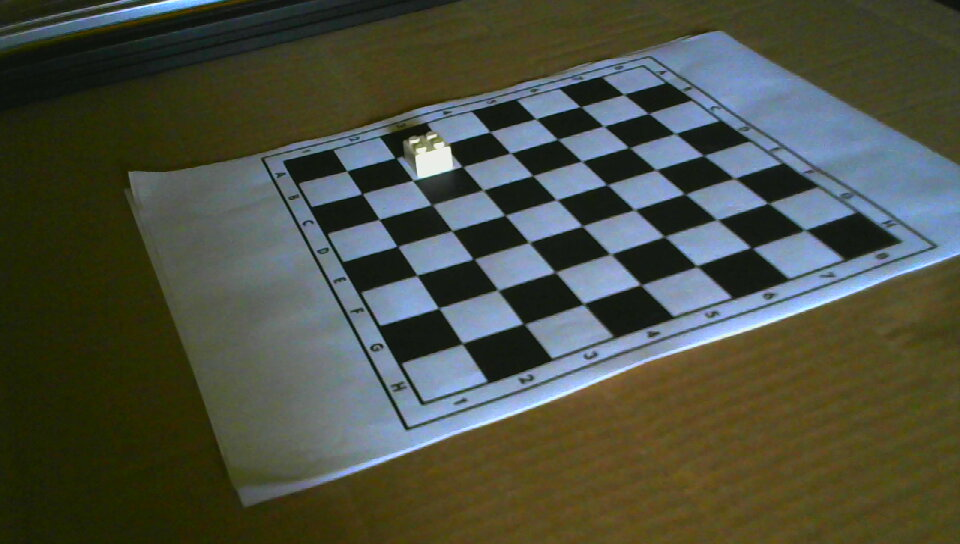wp: (403, 131, 453, 176)
